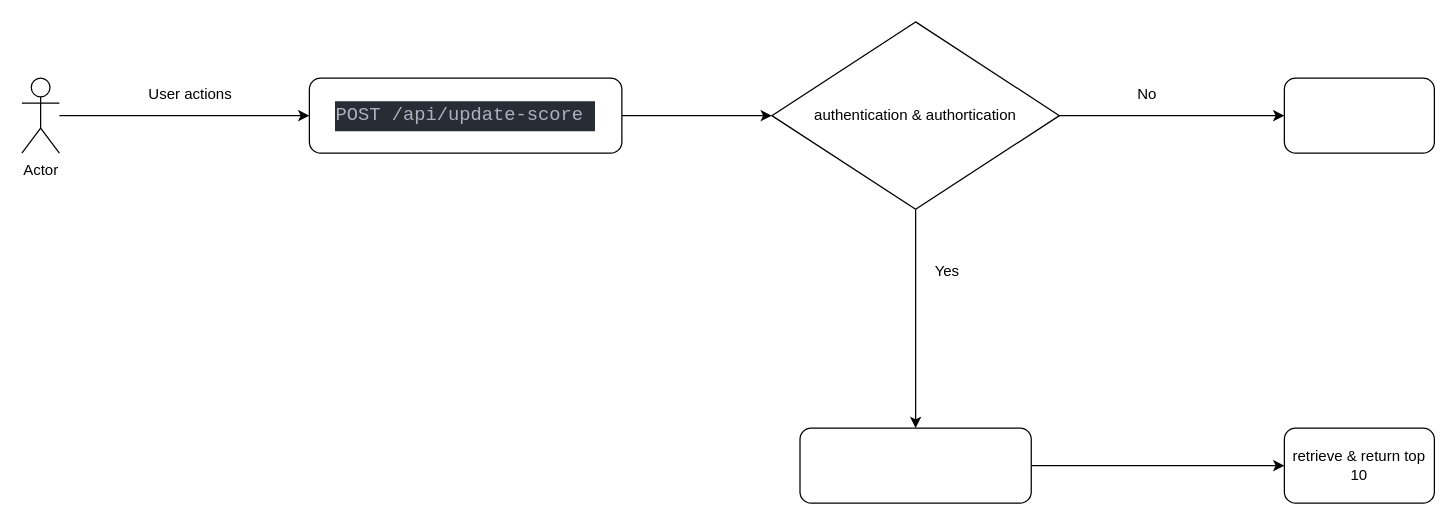
Some shapes in this 1456 by 525 pixel diagram are drawn without their labels. Here are the shapes that lost their labels. From the top down, the box of each, then its label:
(1283, 77, 1434, 153): Response Error
(799, 427, 1031, 503): Increase user's score
